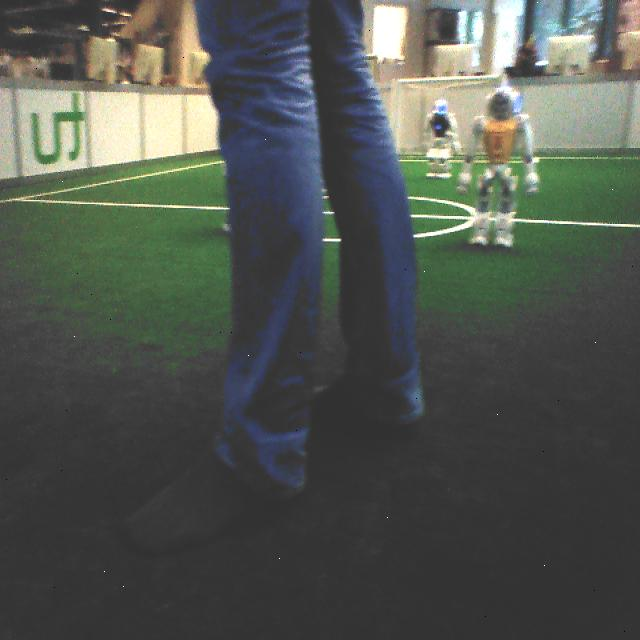goalpost: (386, 73, 400, 143)
